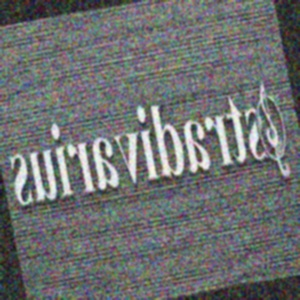stradivarius: (297, 36, 300, 108)
